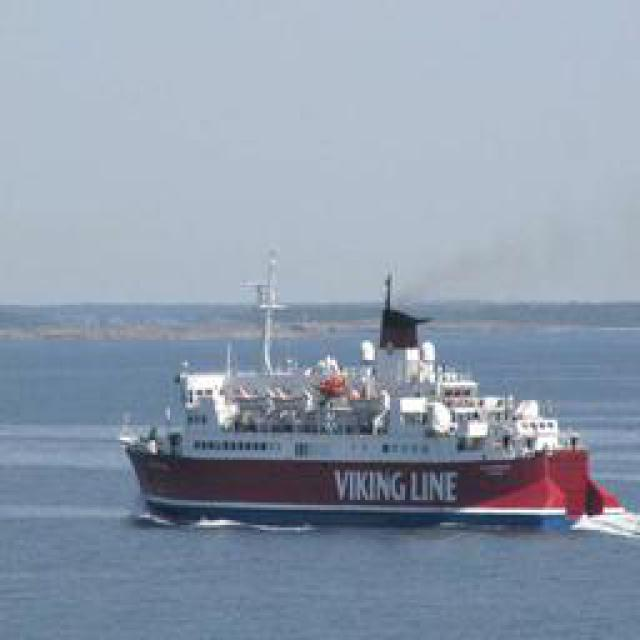Ship: (118, 272, 633, 530)
